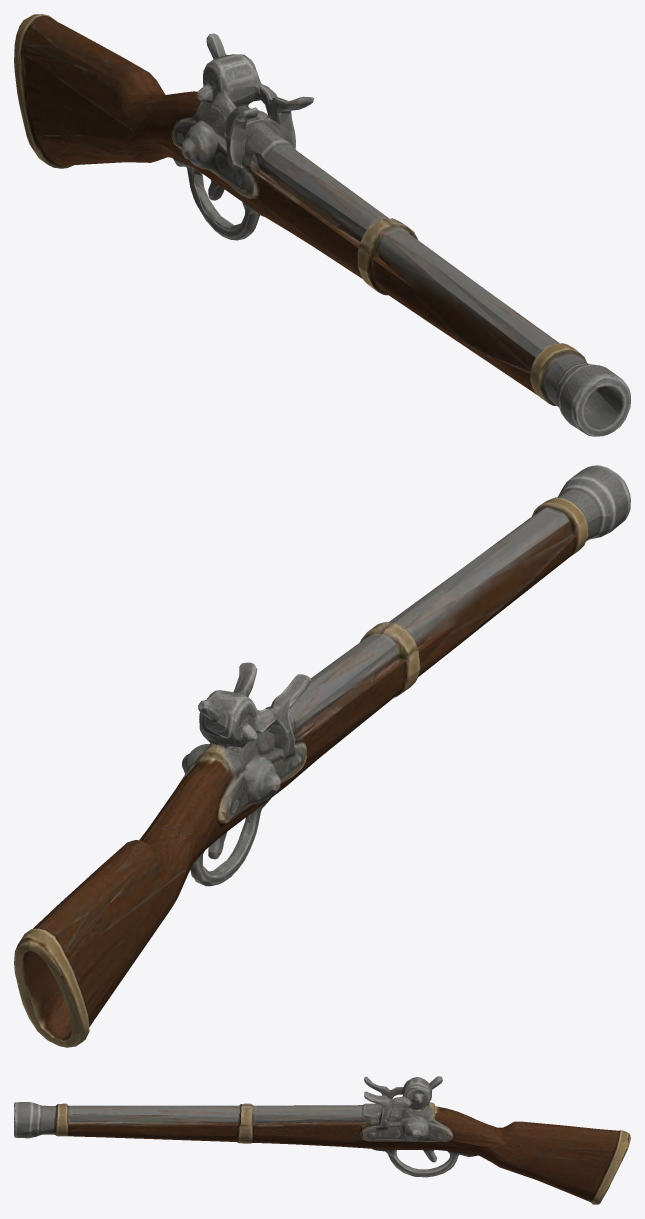
The model's file is musket.glb.
3 views of the same model, one above another, from view 1: azimuth 30°, elevation 25°; view 2: azimuth 150°, elevation 25°; view 3: azimuth 270°, elevation 25° (orthographic). The views are drawn at different scales.
Size of the model in its own units: 0.1389 by 0.3307 by 1.44.
1 material, 1 textured.
